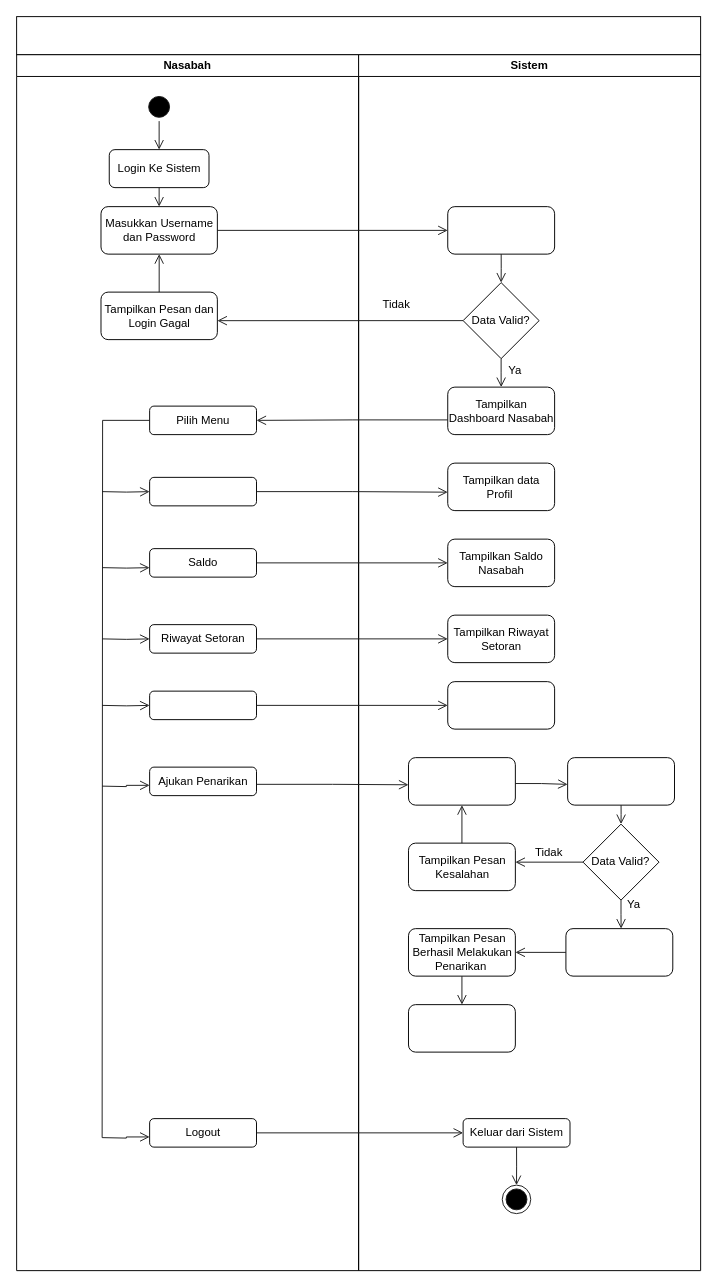
This 717x1287 diagram has some shape labels left out. The shapes that lost their labels are listed below. From the top down, each one's box as (x1, y1, x2, y2) in pixels, then its label:
(16, 16, 701, 55): Activity Diagram - Nasabah
(447, 206, 555, 254): Validasi Data Login
(149, 476, 256, 506): Profil
(149, 690, 256, 720): Riwayat Penarikan
(447, 681, 555, 729): Tampilkan Riwayat Penarikan
(408, 757, 515, 805): Input nominal dan Data Nasabah
(567, 757, 674, 805): Validasi Saldo dan Data
(565, 928, 673, 976): Proses Penarikan
(408, 1004, 515, 1052): Update Saldo Nasabah
